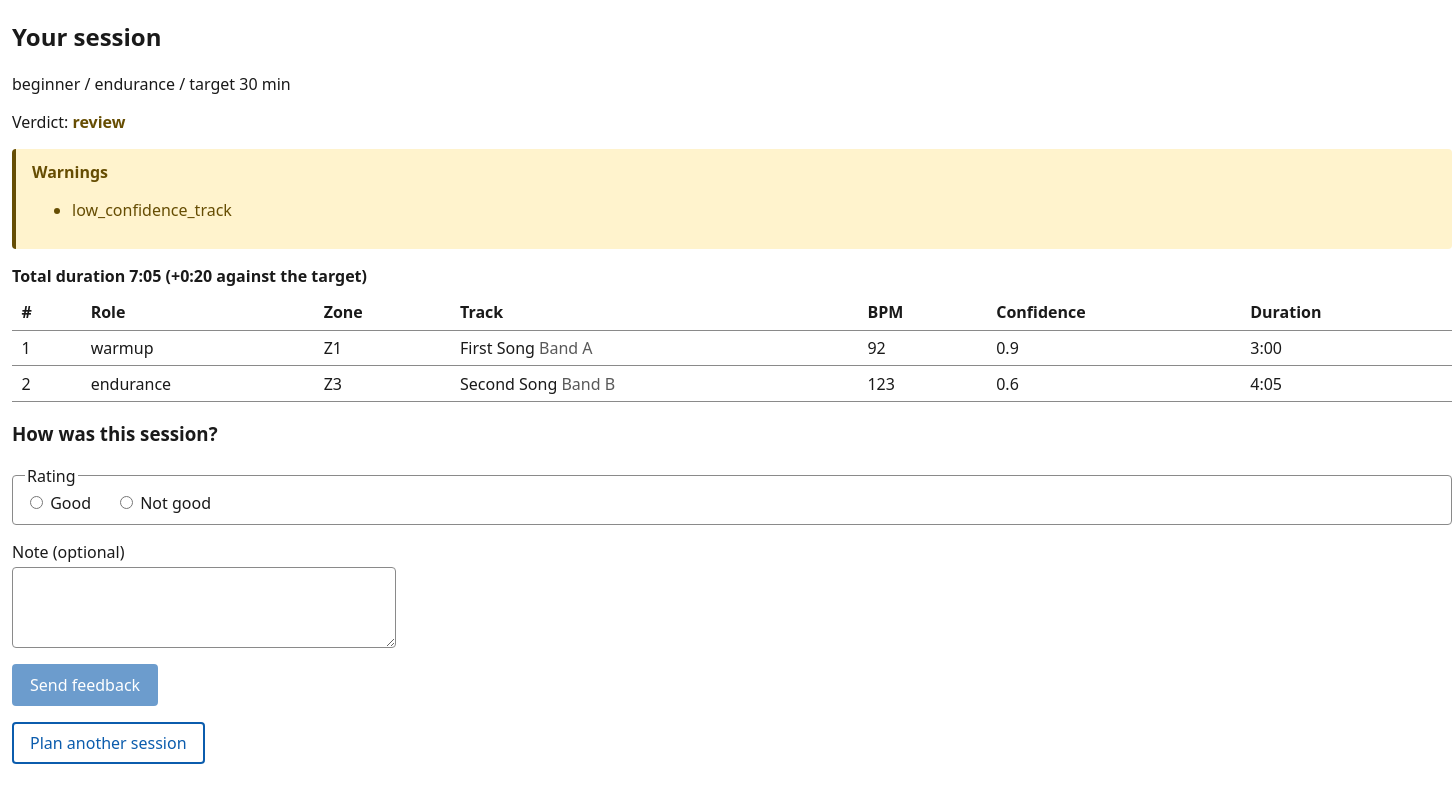
SessionView › sends the feedback to the session and confirms it
The image size is (1452, 810).
Check: the button "Send feedback" is disabled, box [12,664,158,706]
Click the radio button labelled "Good" at (36, 503), box [30,496,43,509]
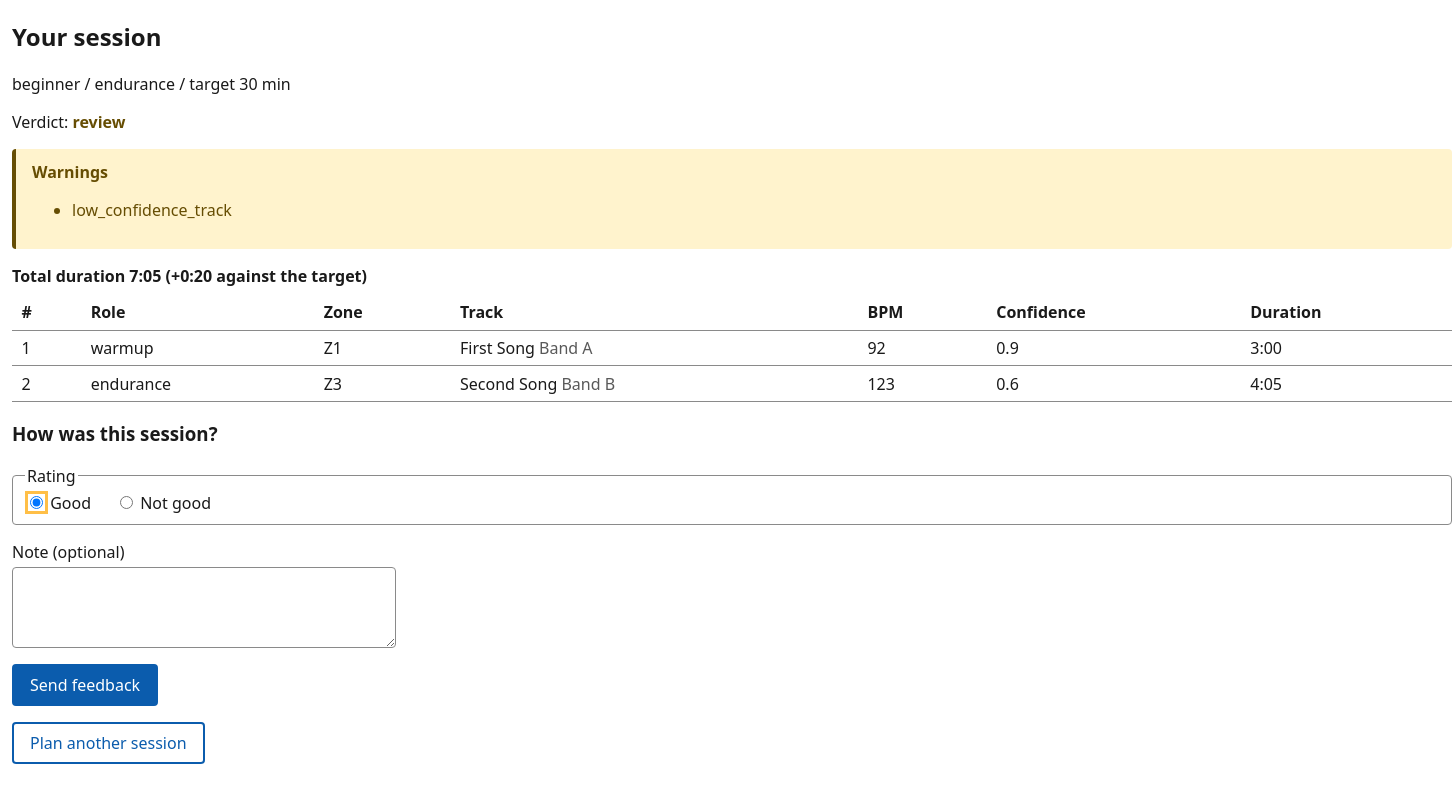
Type "great" into the text box labelled "Note (optional)" at (204, 608), box [12,567,396,648]
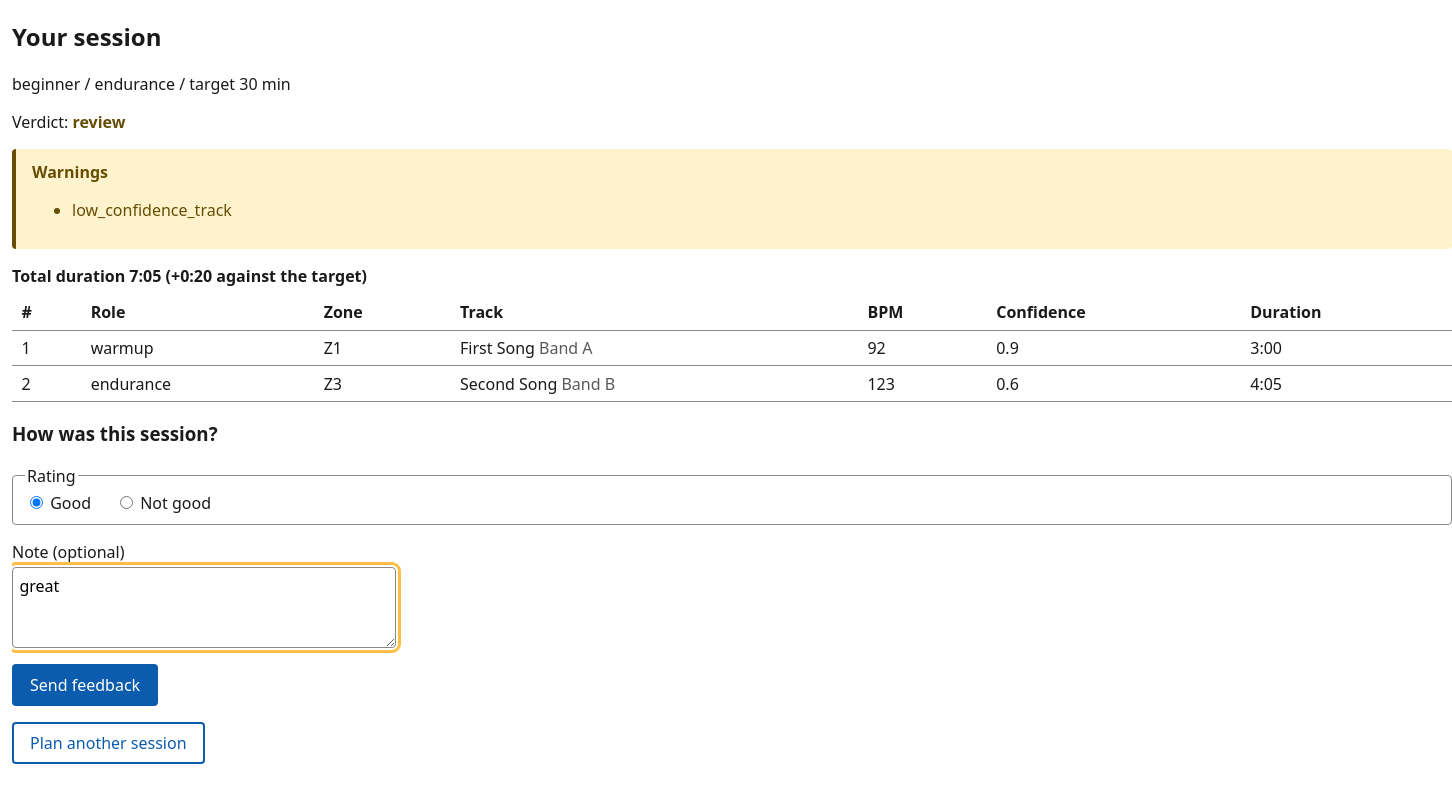
Click the button "Send feedback" at (85, 685), box [12,664,158,706]
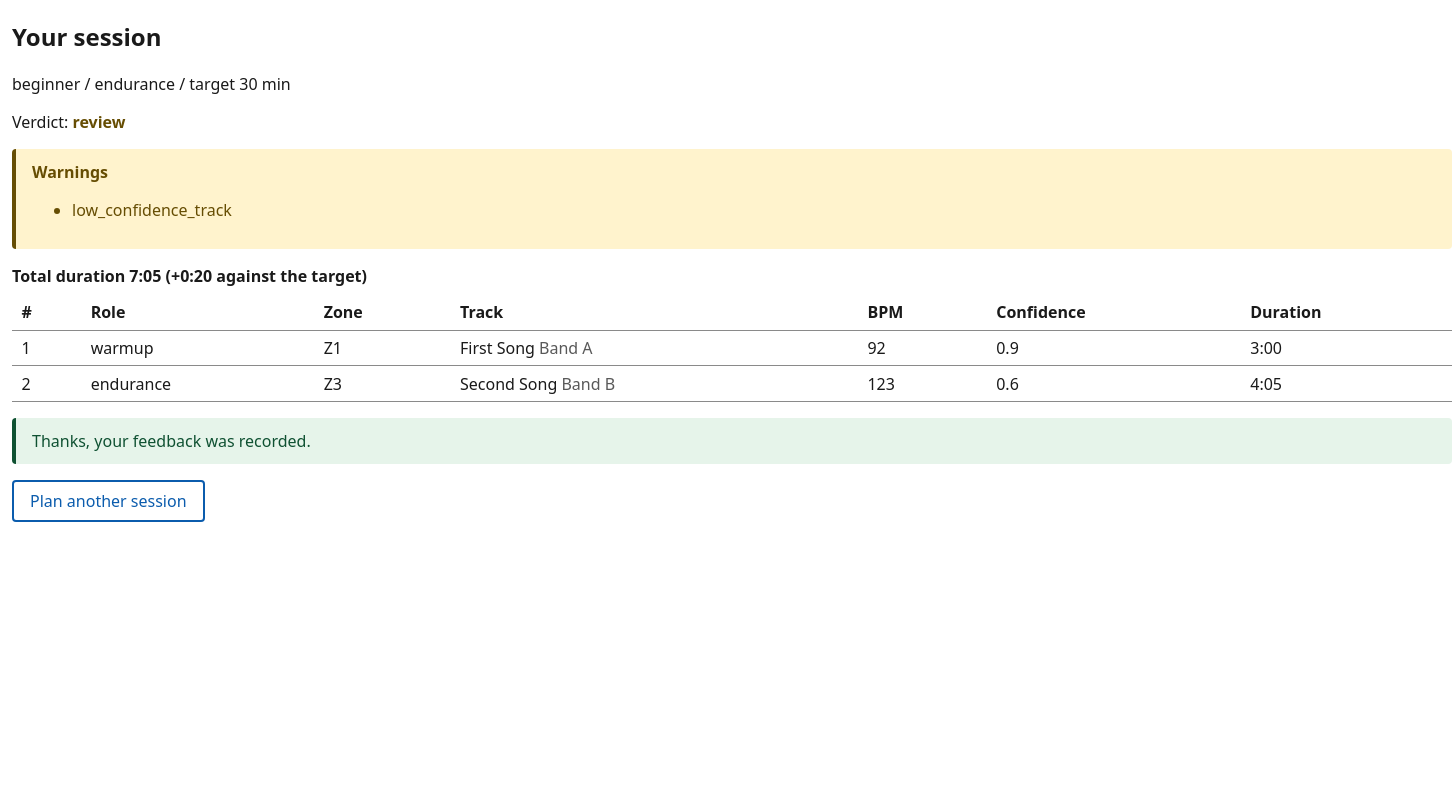
Check: the message shows "feedback was recorded", box [32,430,311,452]
